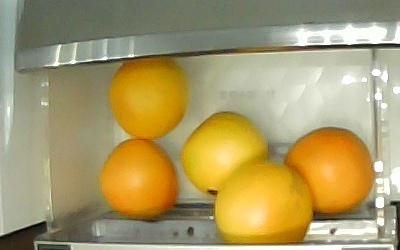grapefruit: (213, 158, 312, 245), (283, 125, 373, 213), (179, 109, 269, 196), (97, 136, 177, 219), (107, 62, 187, 138)
